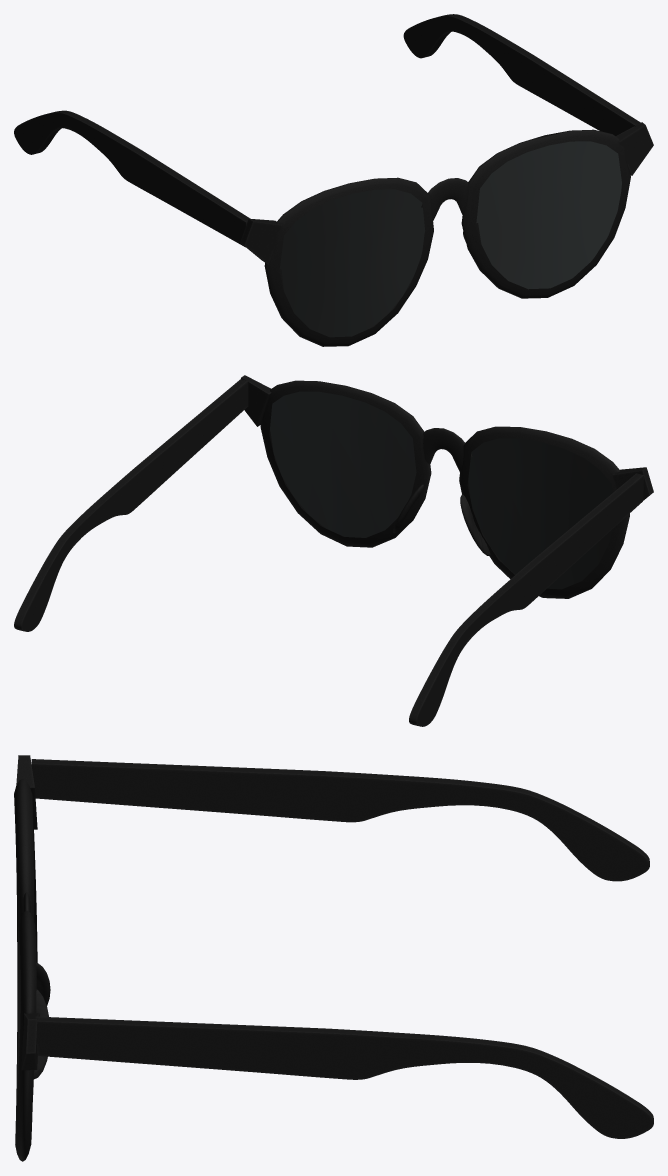
The model's file is lentes_hugo.glb.
3 renders of one model, top to bottom at view 1: azimuth 30°, elevation 25°; view 2: azimuth 150°, elevation 25°; view 3: azimuth 270°, elevation 25°, orthographic. The views are drawn at different scales.
Visible parts, largest first — view 1: pDisc2, pDisc1, polySurface2, polySurface1, pTorus2, pTorus1, pCube1, pCube2, pTorus3; view 2: pDisc2, pDisc1, polySurface2, polySurface1, pTorus2, pTorus1, pTorus3, pCube2, pCube1, pTorus5; view 3: polySurface1, polySurface2, pTorus2, pTorus1, pCube2, pCube1.
Part boxes in pixels (x1,y1,x2,y2): pDisc2: (476,141,621,289); pDisc1: (279,189,425,337); polySurface2: (14,110,249,247); polySurface1: (403,14,640,135); pTorus2: (461,129,630,298); pTorus1: (264,177,433,346); pCube1: (240,218,282,264); pCube2: (616,122,653,175); pTorus3: (421,178,468,220); pDisc2: (270,391,416,537); pDisc1: (468,438,612,589); polySurface2: (409,473,643,726); polySurface1: (14,379,248,631); pTorus2: (260,380,431,547); pTorus1: (459,426,629,598); pTorus3: (423,428,472,472); pCube2: (241,375,271,426); pCube1: (612,467,653,500); pTorus5: (460,494,490,555); polySurface1: (35,1016,653,1138); polySurface2: (31,759,649,881); pTorus2: (15,911,36,1161); pTorus1: (14,779,37,979); pCube2: (21,1013,39,1070); pCube1: (16,755,37,829).
Bounding box in the file's own units: 3.53 × 1.35 × 3.53.
Materials: 1 (1 with a texture image).
